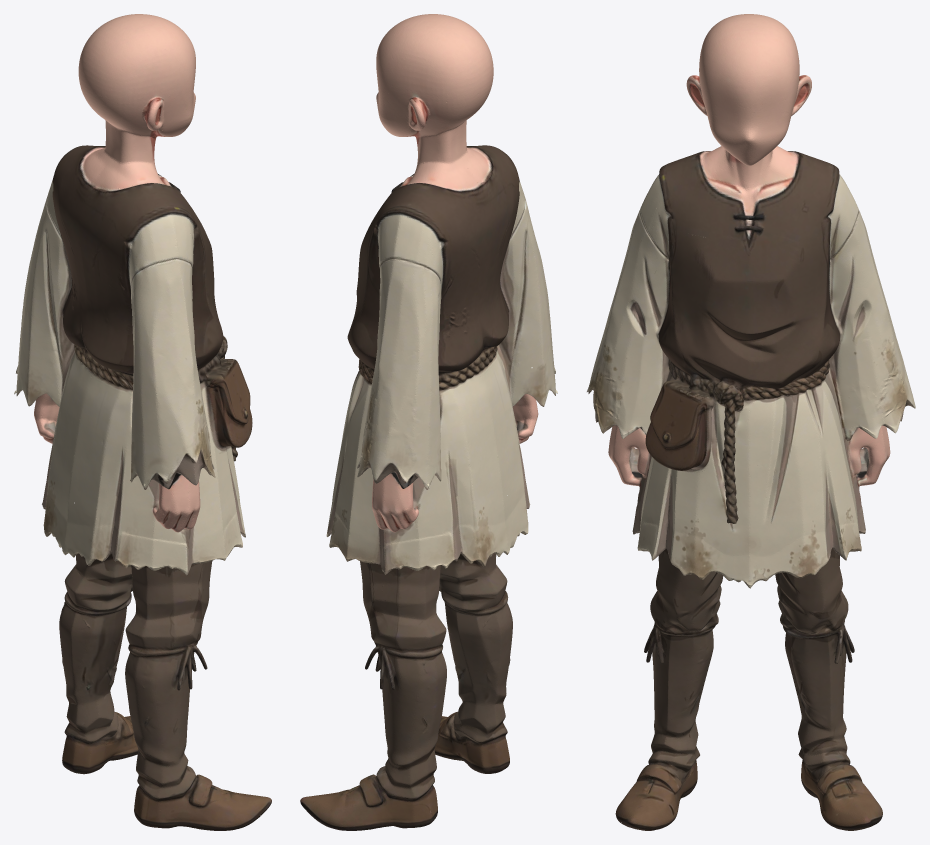
File: medieval+villager+3d+model.glb
The picture shows the model from 3 angles, left to right: view 1: azimuth 30°, elevation 25°; view 2: azimuth 150°, elevation 25°; view 3: azimuth 270°, elevation 25°; orthographic projection.
Visible parts, largest first — view 1: tripo_node_1fbcaa12-ebe6-4fe7-a446-1eefd713cc13; view 2: tripo_node_1fbcaa12-ebe6-4fe7-a446-1eefd713cc13; view 3: tripo_node_1fbcaa12-ebe6-4fe7-a446-1eefd713cc13.
Part boxes in pixels (<box>): tripo_node_1fbcaa12-ebe6-4fe7-a446-1eefd713cc13: <box>14,14,271,830</box>; tripo_node_1fbcaa12-ebe6-4fe7-a446-1eefd713cc13: <box>300,14,557,830</box>; tripo_node_1fbcaa12-ebe6-4fe7-a446-1eefd713cc13: <box>587,14,915,830</box>.
Bounding box in the file's own units: 0.2241 × 1 × 0.3817.
1 material, 1 textured.
